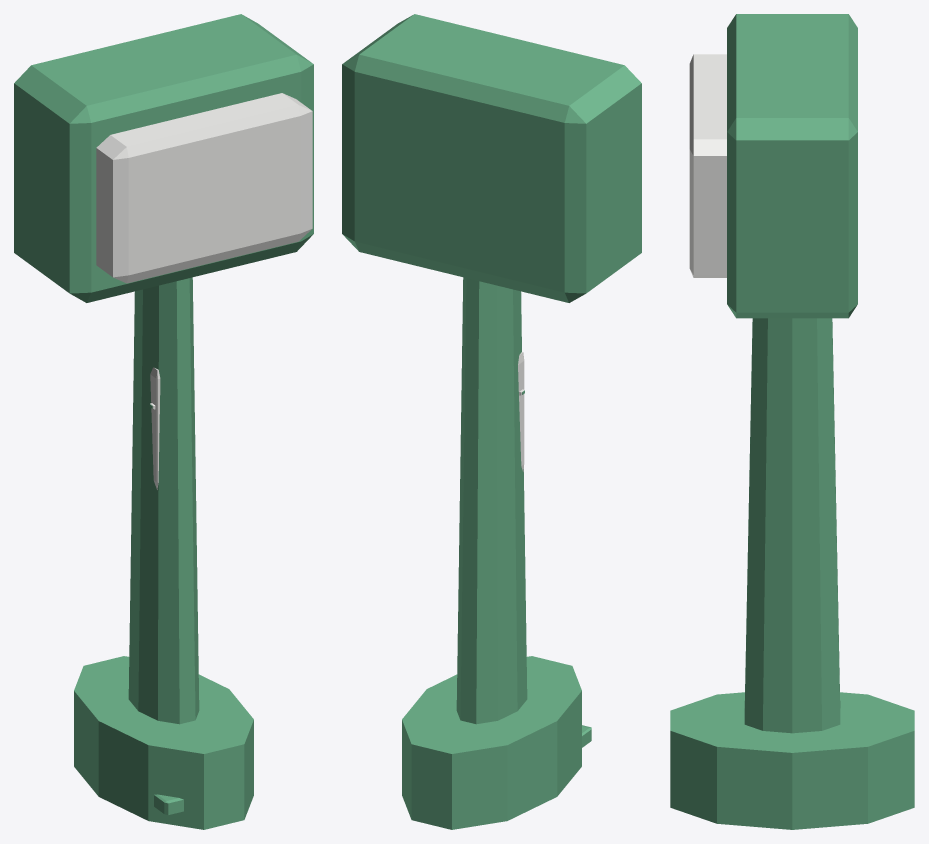
File: b02_parking_pay_station.glb
3 renders of one model, left to right at view 1: azimuth 30°, elevation 25°; view 2: azimuth 150°, elevation 25°; view 3: azimuth 270°, elevation 25°, orthographic.
Visible parts, largest first — view 1: b02_parking_pay_station; view 2: b02_parking_pay_station; view 3: b02_parking_pay_station.
Part boxes in pixels (<box>): b02_parking_pay_station: <box>14,14,313,829</box>; b02_parking_pay_station: <box>342,14,641,829</box>; b02_parking_pay_station: <box>670,14,914,829</box>.
Size of the model in its own units: 0.62 by 1.75 by 0.53.
